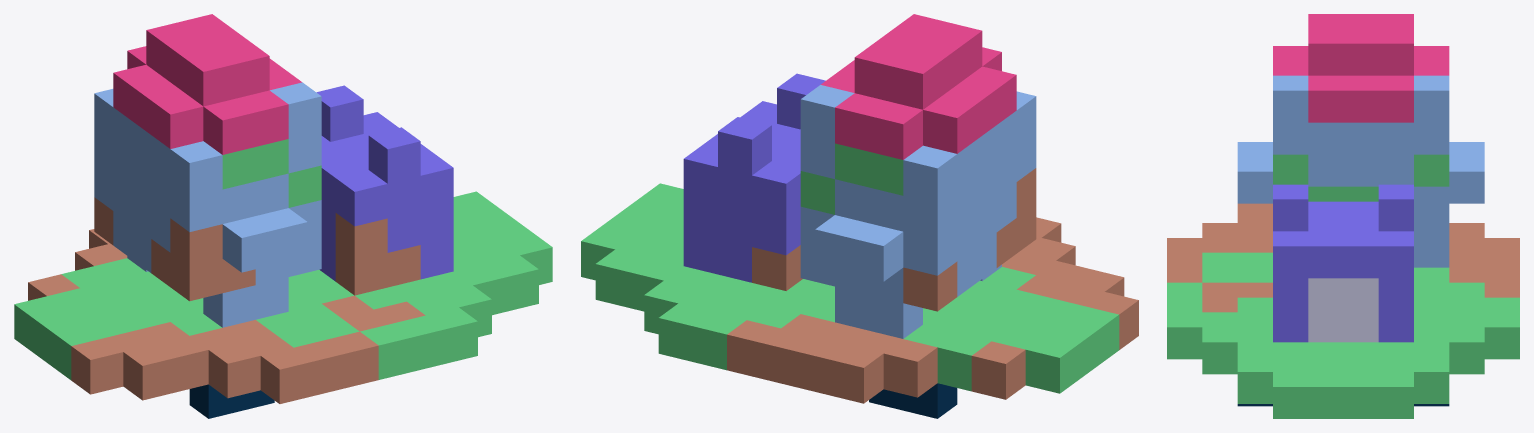
The model's file is Ligero.fbx.
3 renders of one model, left to right at view 1: azimuth 30°, elevation 25°; view 2: azimuth 150°, elevation 25°; view 3: azimuth 270°, elevation 25°, orthographic. The views are drawn at different scales.
Visible parts, largest first — view 1: Ligero; view 2: Ligero; view 3: Ligero.
Boxes of the visible parts, x1=… form: Ligero: x1=14, y1=14, x2=552, y2=418; Ligero: x1=581, y1=14, x2=1138, y2=418; Ligero: x1=1167, y1=14, x2=1519, y2=418.
Size of the model in its own units: 140 by 90 by 100.
